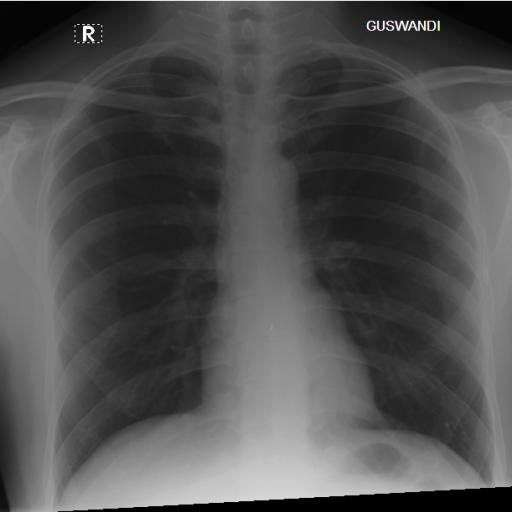normal: (35, 12, 503, 486)
